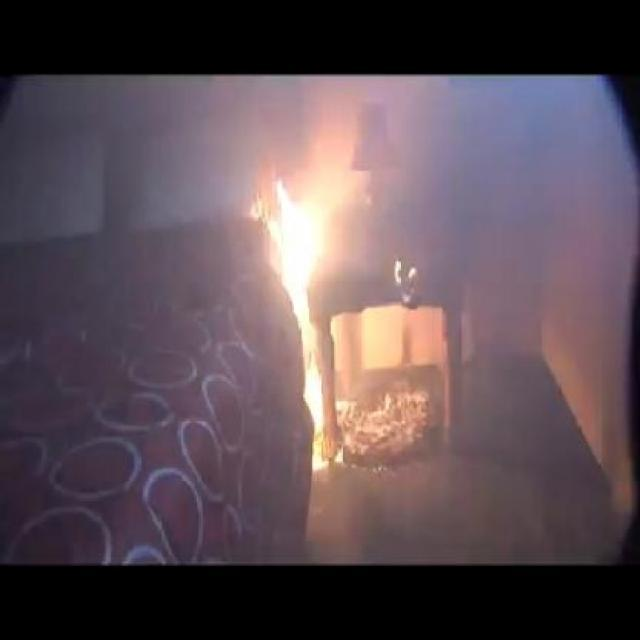fire: (258, 170, 444, 468)
